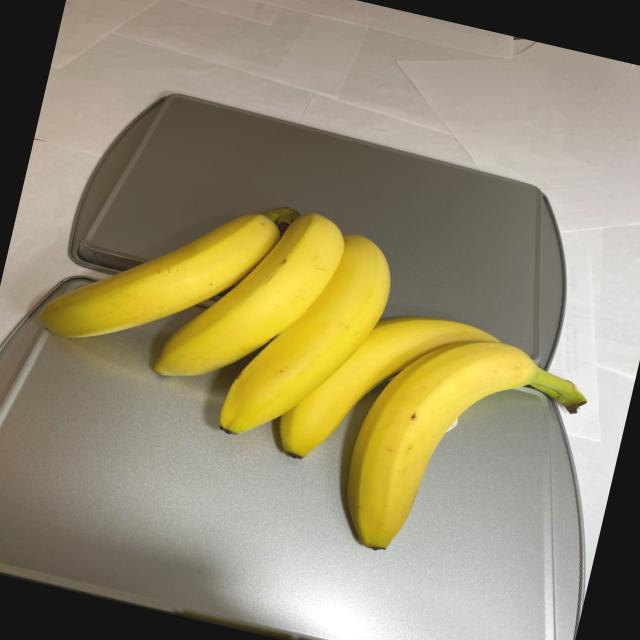banana: (2, 154, 610, 588)
